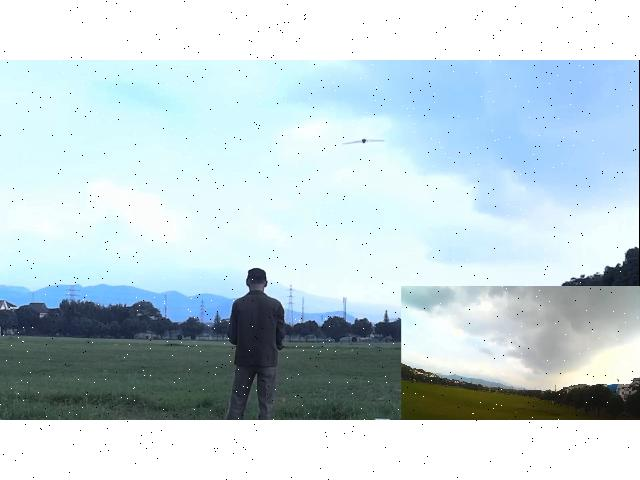Anti-Drone: (342, 136, 386, 146)
